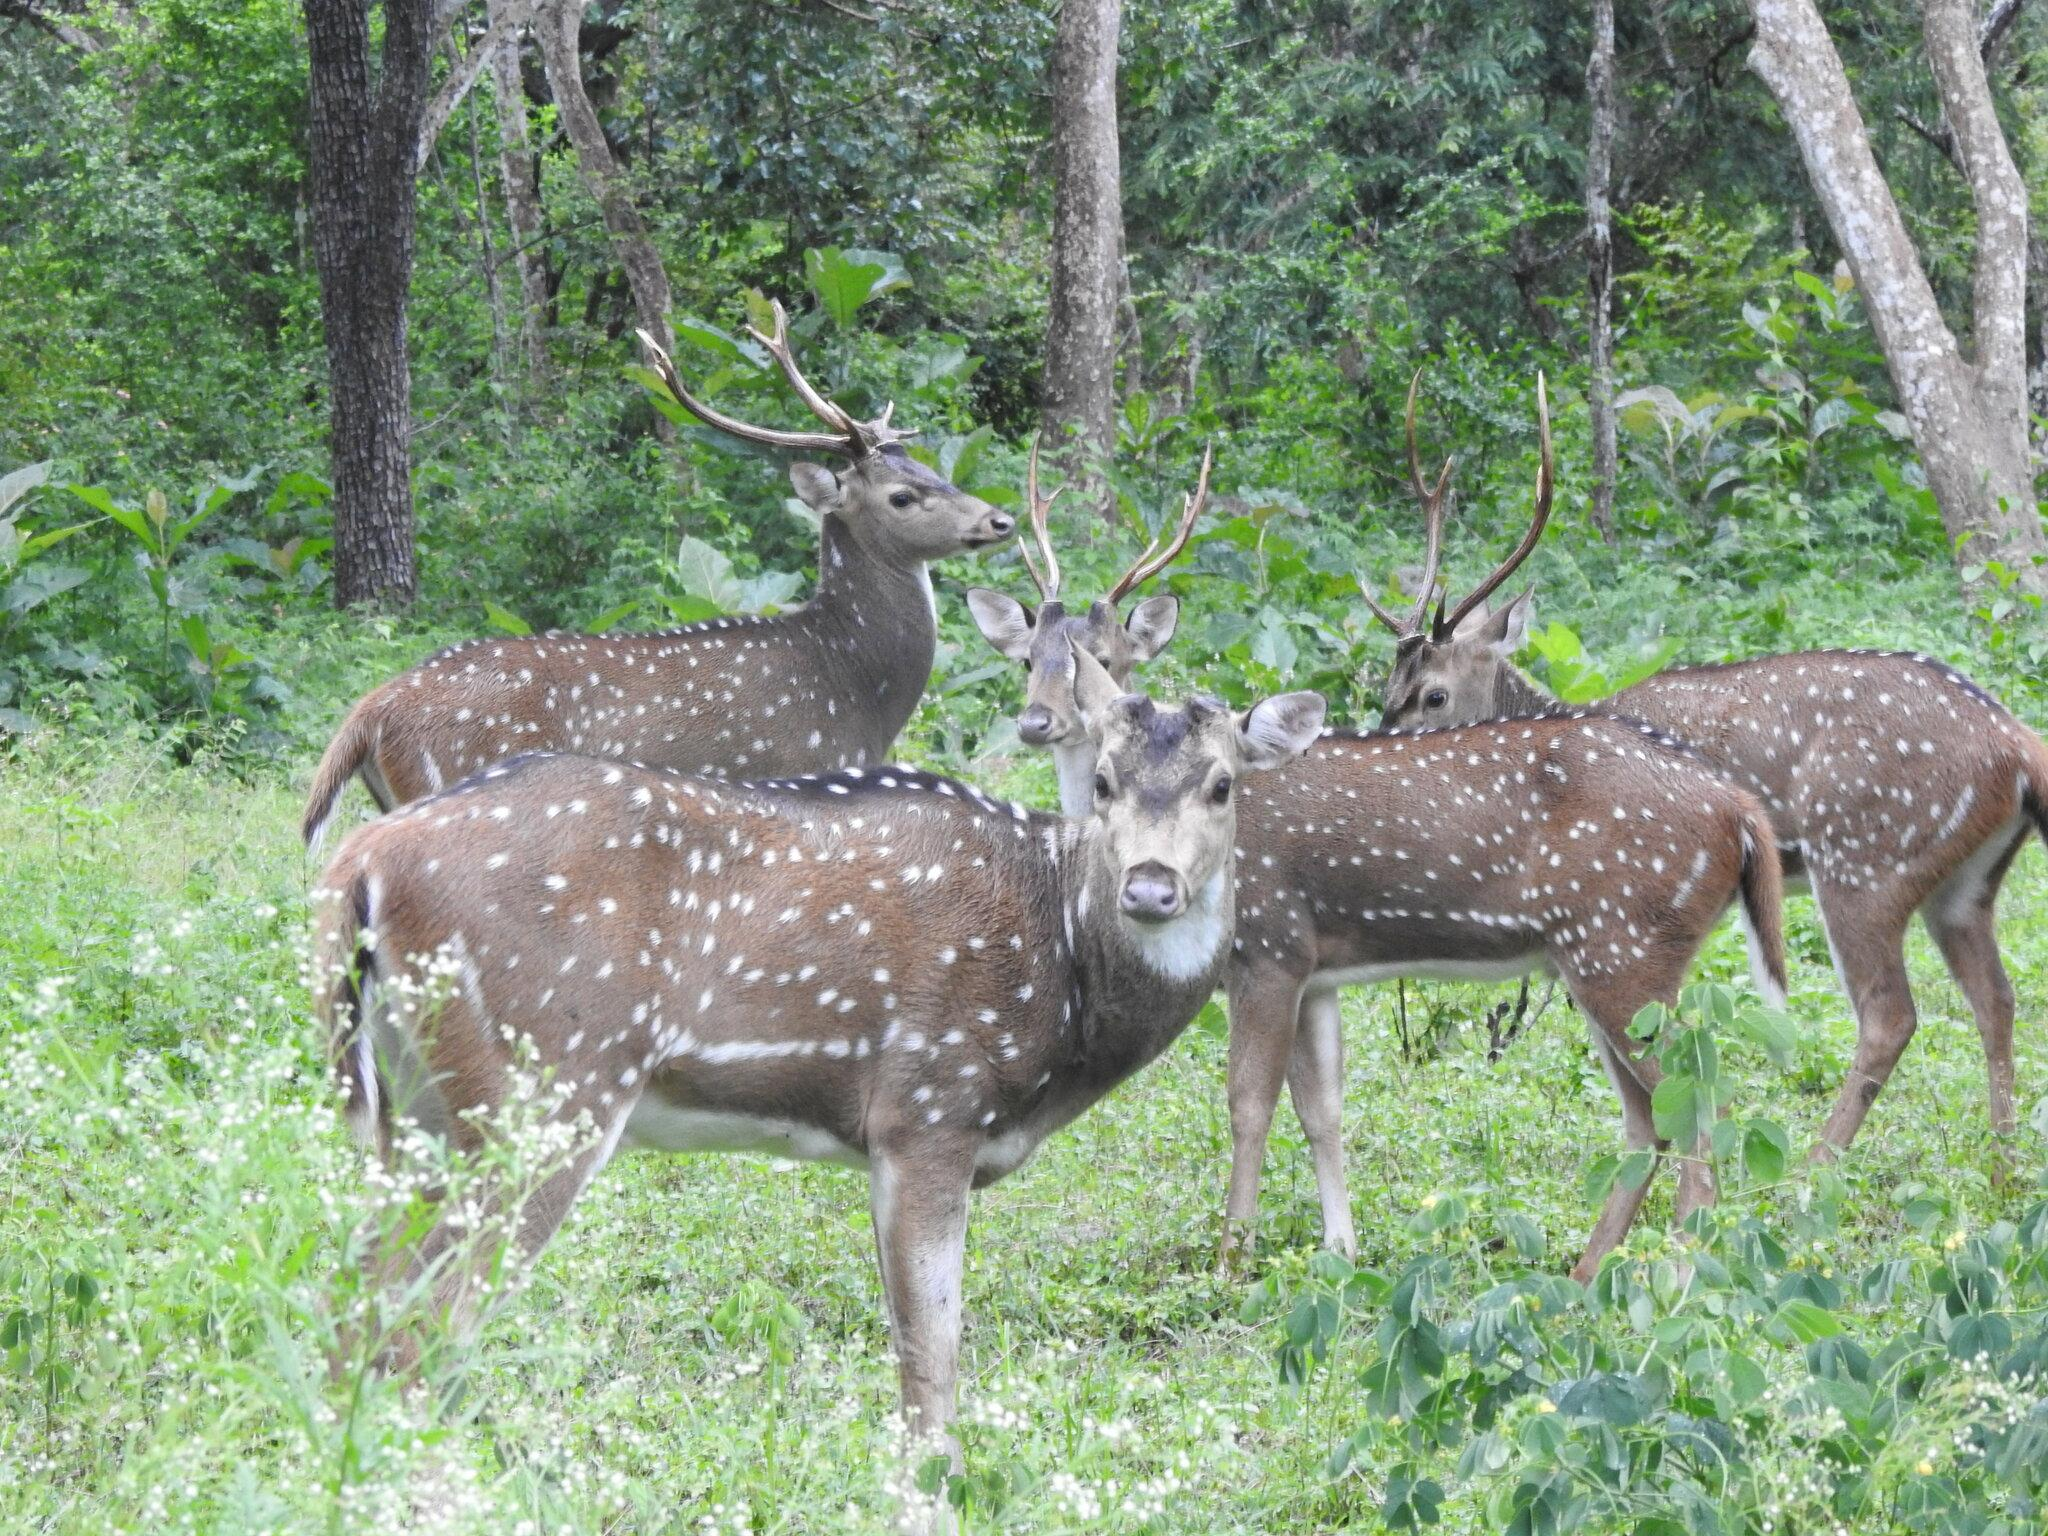Deer: (319, 631, 1326, 1439), (302, 303, 1014, 845), (1222, 715, 1785, 1249), (1574, 650, 2046, 1157), (1364, 373, 1571, 733)
